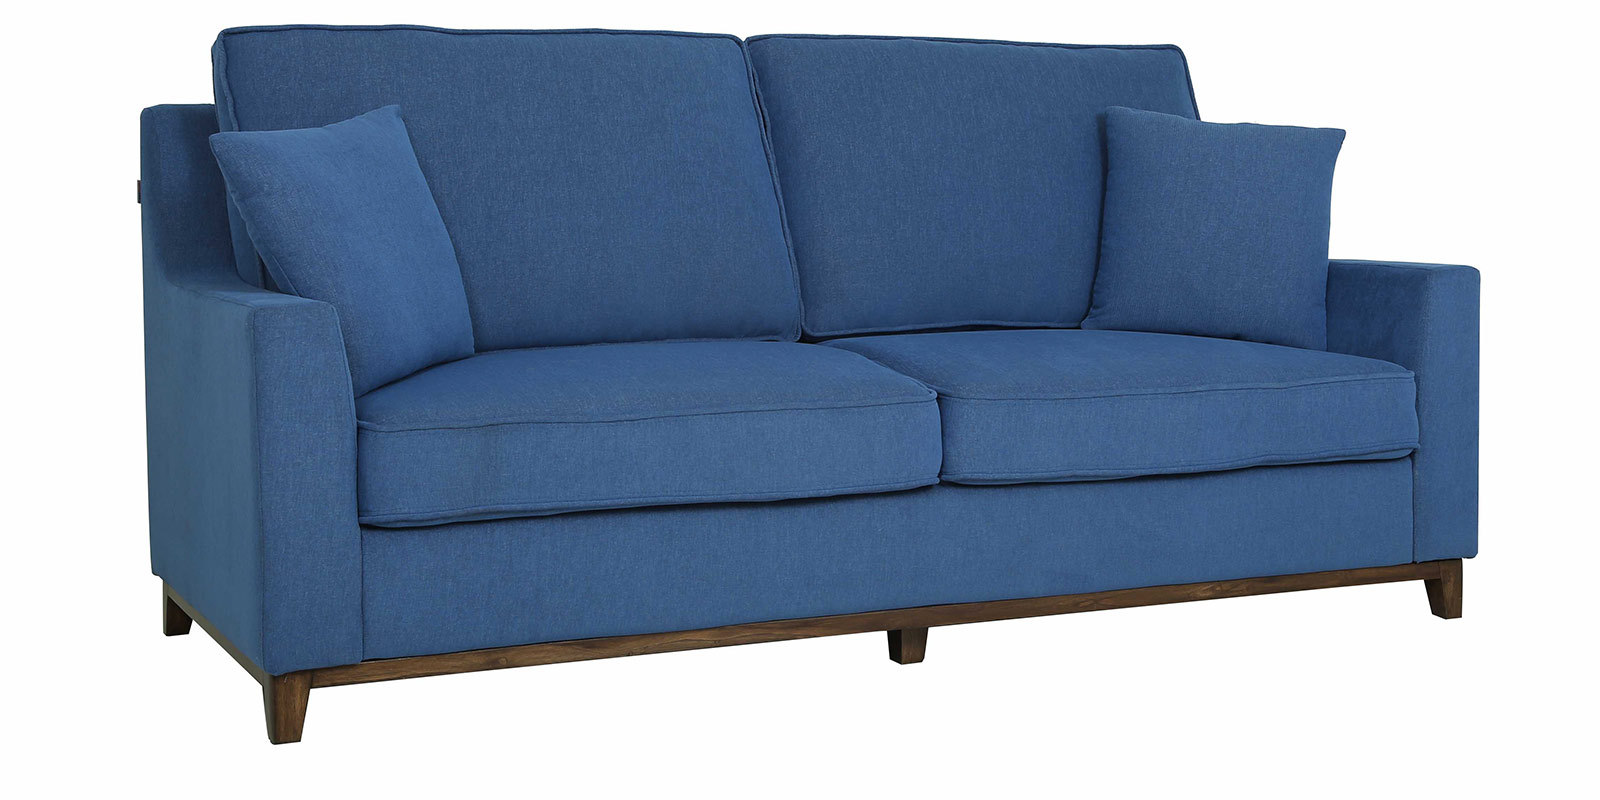Diego Three Seater Sofa in Denim Blue Colour by CasaCraft: (123, 23, 1495, 677)
